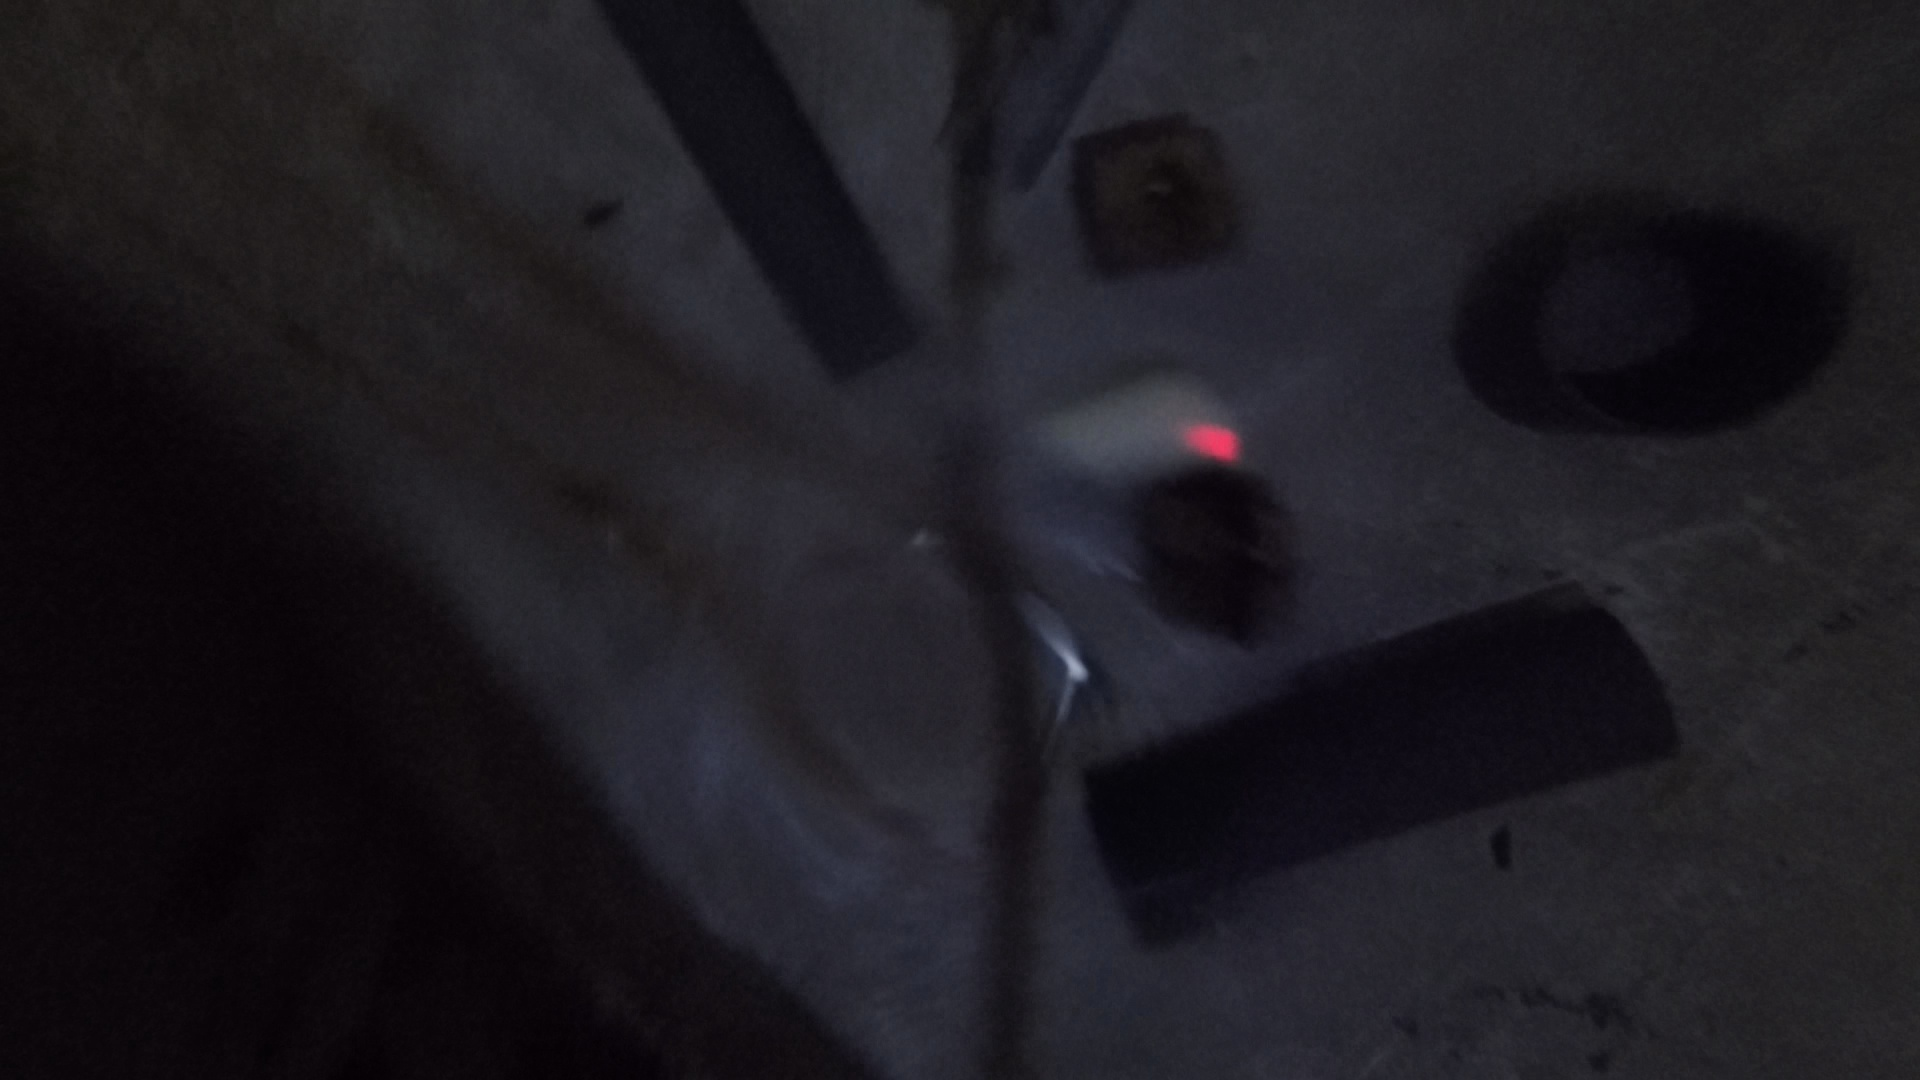bolt: (934, 530, 1092, 686), (1034, 658, 1095, 774)
led_block: (1134, 473, 1309, 647), (1073, 121, 1253, 281)
pipe: (1084, 599, 1680, 951), (596, 1, 922, 386), (1458, 214, 1844, 439), (930, 1, 1124, 193), (1025, 365, 1237, 524)
